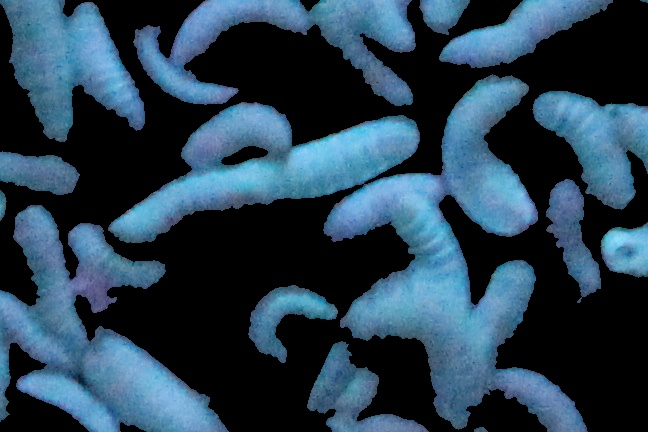larvae: (441, 75, 544, 235), (82, 331, 231, 432), (119, 164, 273, 250), (408, 253, 487, 418), (233, 254, 337, 377), (159, 1, 318, 76), (534, 88, 631, 204), (1, 1, 77, 145), (323, 1, 423, 107), (270, 118, 421, 188), (76, 1, 150, 129), (12, 207, 87, 332), (131, 24, 240, 102), (472, 254, 543, 364), (324, 177, 450, 235), (543, 180, 599, 291), (69, 228, 161, 295), (1, 294, 77, 375), (175, 105, 295, 156), (16, 371, 116, 432), (497, 363, 585, 432), (394, 188, 467, 268), (436, 16, 552, 66), (1, 148, 82, 201)
